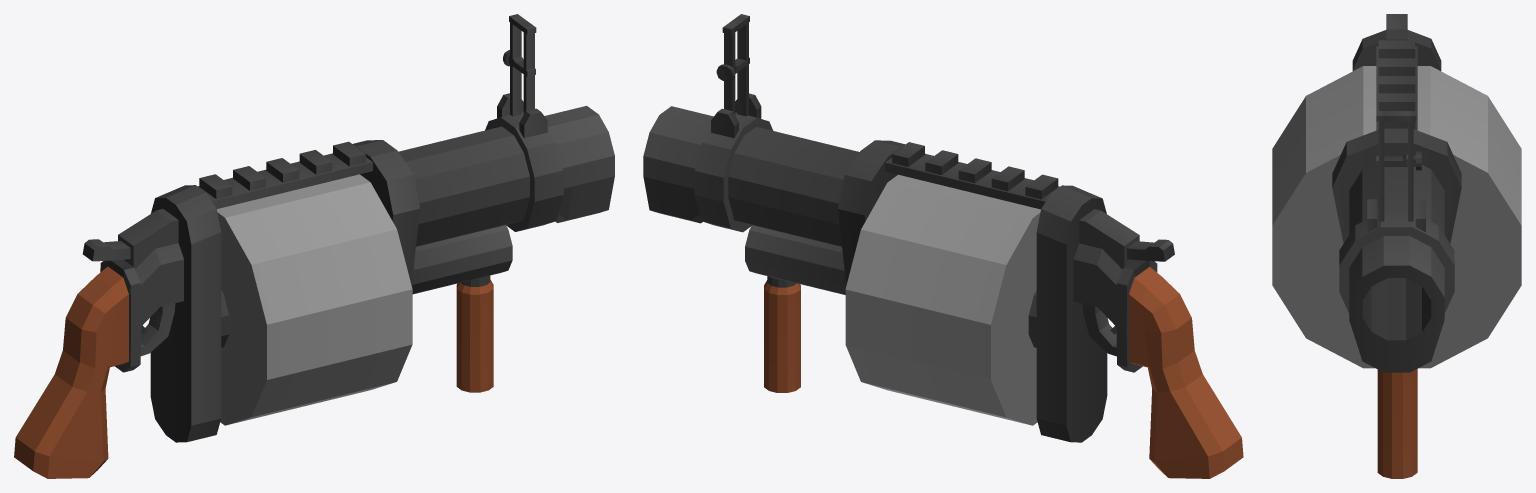
File: cluster (3).fbx
3 views of the same model, side by side, from view 1: azimuth 30°, elevation 25°; view 2: azimuth 150°, elevation 25°; view 3: azimuth 270°, elevation 25° (orthographic). The views are drawn at different scales.
Visible parts, largest first — view 1: Cube.001; view 2: Cube.001; view 3: Cube.001.
Boxes of the visible parts, box(x1,y1,x2,y2) form: Cube.001: box(14, 14, 614, 478); Cube.001: box(643, 14, 1243, 478); Cube.001: box(1272, 14, 1521, 478).
Bounding box in the file's own units: 72.22 × 42.68 × 25.23.
1 material, 1 textured.
